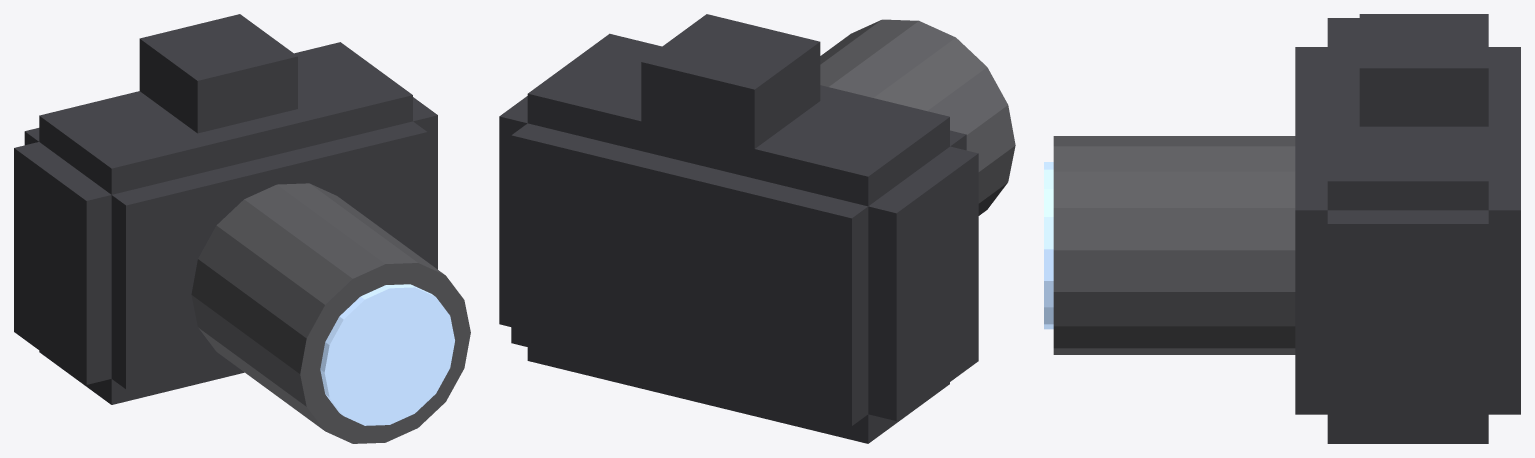
File: camara_mano.glb
3 views of the same model, side by side, from view 1: azimuth 30°, elevation 25°; view 2: azimuth 150°, elevation 25°; view 3: azimuth 270°, elevation 25° (orthographic). The views are drawn at different scales.
Visible parts, largest first — view 1: camara_mano; view 2: camara_mano; view 3: camara_mano.
Part boxes in pixels (x1=…): camara_mano: x1=14, y1=14, x2=470, y2=443; camara_mano: x1=499, y1=14, x2=1015, y2=443; camara_mano: x1=1044, y1=14, x2=1520, y2=443.
Size of the model in its own units: 0.14 by 0.11 by 0.148.
